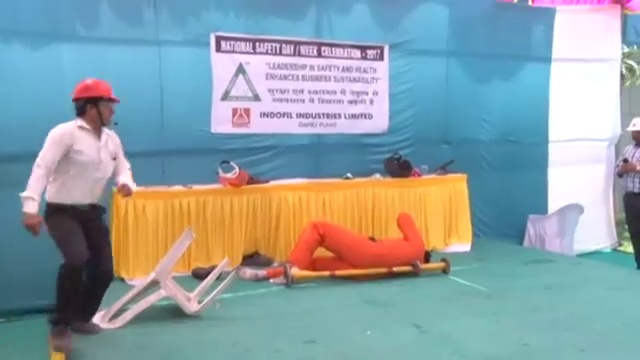helmet: (69, 76, 122, 106), (624, 116, 640, 131)
helmet_on: (68, 74, 122, 132), (624, 114, 640, 148)
person: (20, 75, 135, 357), (237, 214, 431, 283), (615, 114, 640, 273)
